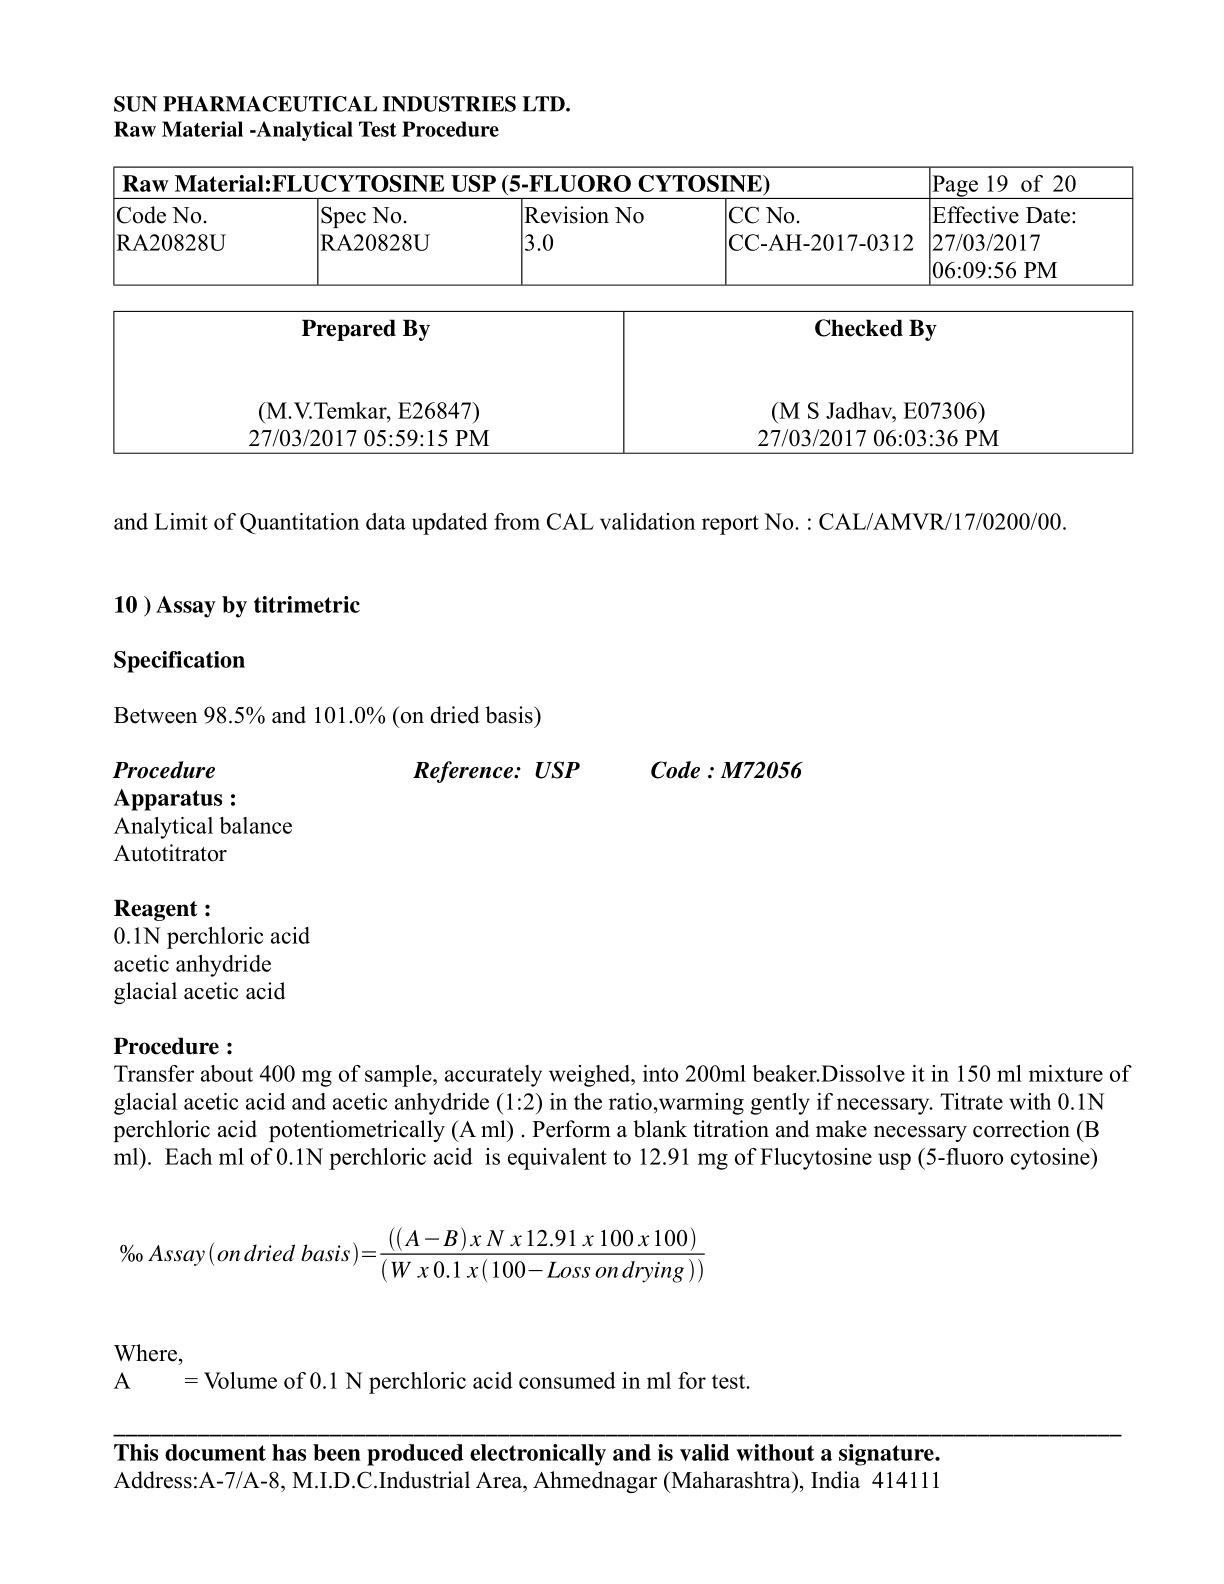merged_cells: (112, 166, 1134, 285)
partial_lined: (112, 310, 1134, 454)
